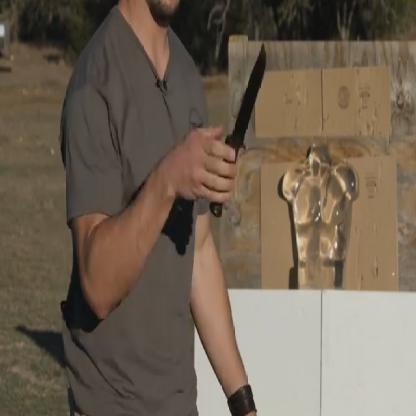knife: (196, 30, 275, 218)
